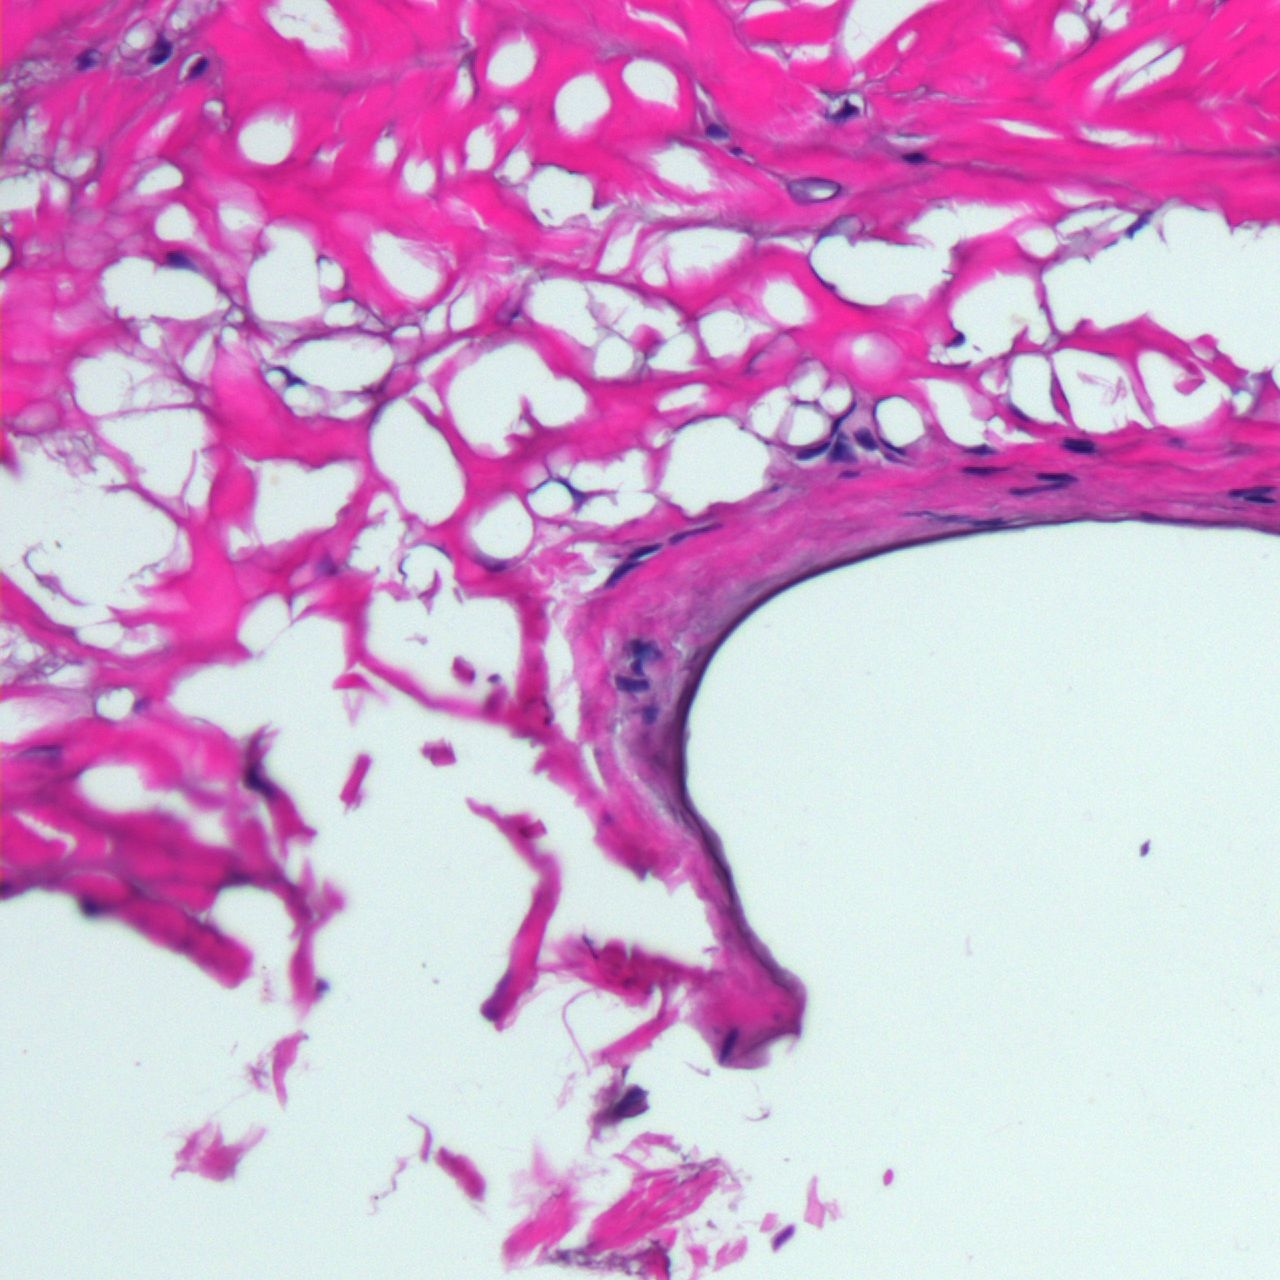nucleus-HE: (234, 757, 281, 806), (665, 517, 723, 547), (714, 1026, 745, 1065), (142, 34, 176, 69), (1121, 207, 1155, 241), (163, 245, 200, 275), (794, 437, 832, 465), (828, 400, 859, 431), (828, 94, 860, 124), (602, 558, 632, 591), (624, 537, 661, 561), (613, 1085, 645, 1114), (182, 54, 210, 83), (1228, 486, 1276, 503), (74, 45, 102, 72), (625, 639, 663, 658), (77, 896, 107, 918), (614, 674, 651, 692), (877, 435, 904, 457), (1061, 437, 1095, 454), (1035, 470, 1076, 482), (855, 427, 874, 449), (830, 442, 852, 462), (1010, 486, 1056, 496), (964, 444, 998, 456), (704, 123, 729, 138), (965, 465, 1005, 475), (973, 518, 1007, 527), (903, 150, 925, 163), (642, 704, 658, 723), (838, 468, 858, 479), (949, 332, 965, 347), (728, 145, 743, 155)
